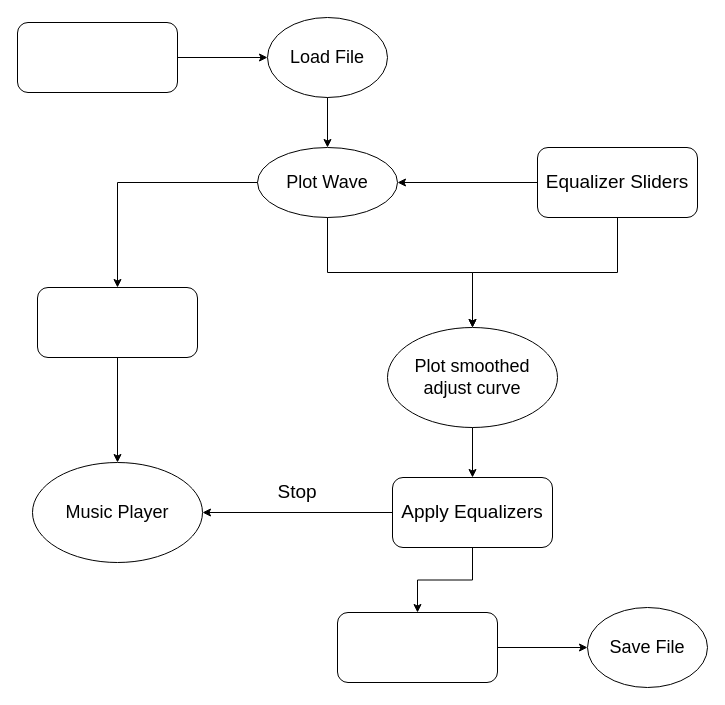
Image size: 725x705. Some labels were removed from this diagram. The shapes that lost their labels are listed below. From the top down, each one's box as (x1, y1, x2, y2) in pixels, then its label:
(16, 22, 178, 92): Input file path (or `uigetfile()`)
(36, 286, 198, 358): Music control
(336, 612, 498, 682): Save / Save As
